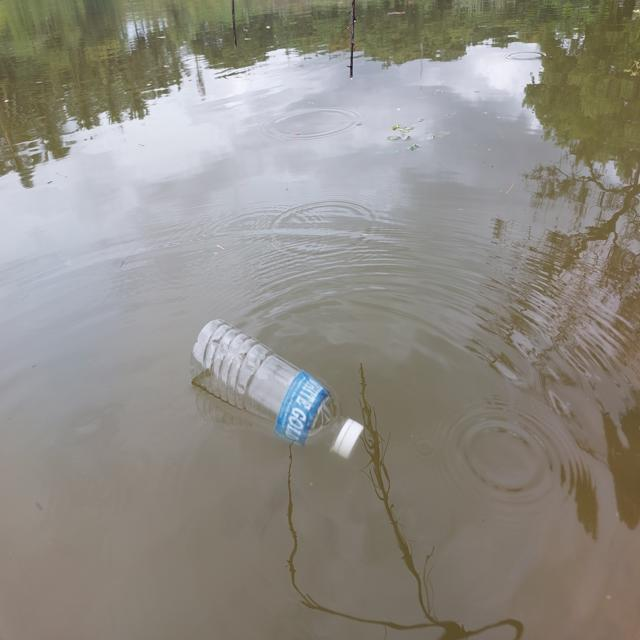waterbottle: (175, 298, 388, 467)
